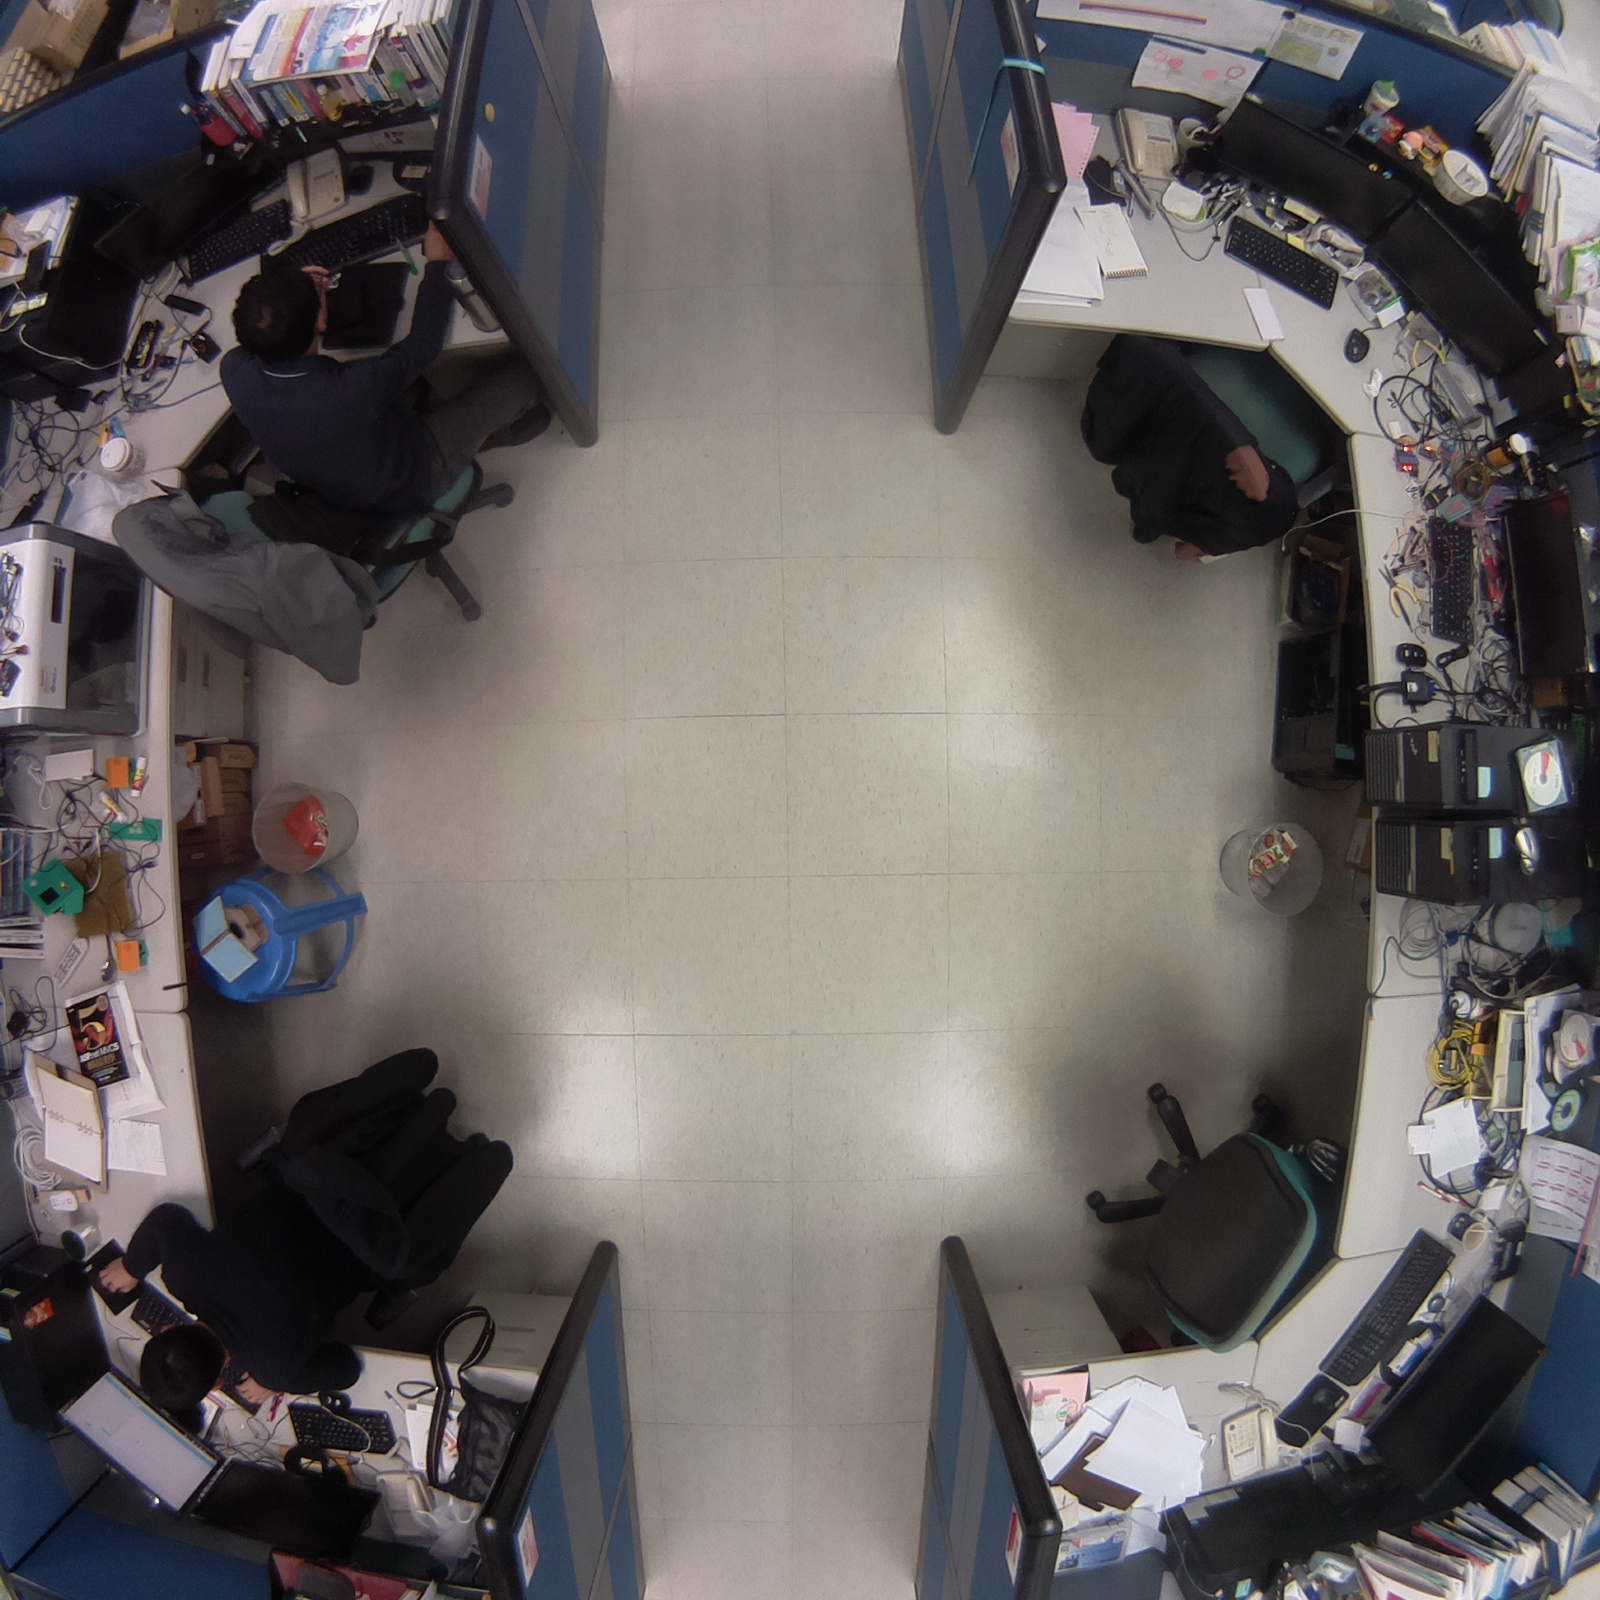chair: (1058, 1068, 1350, 1363), (1068, 311, 1347, 570)
head: (219, 259, 340, 368), (129, 1314, 232, 1423)
sitting: (101, 196, 555, 704), (96, 1022, 542, 1437)
